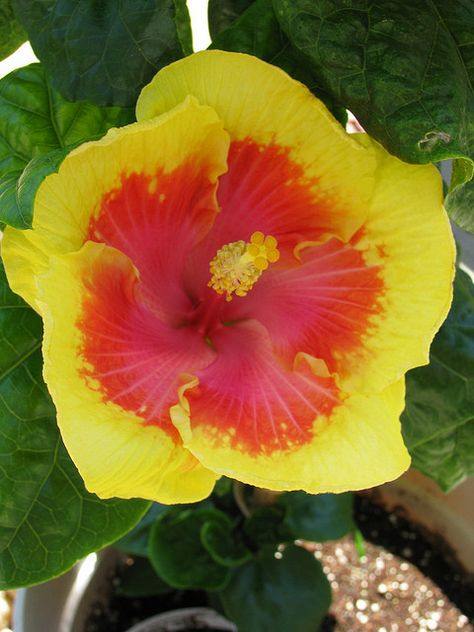Hibiscus: (9, 56, 468, 516)
